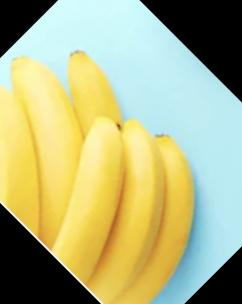Banana Ripe: (0, 0, 226, 304)
